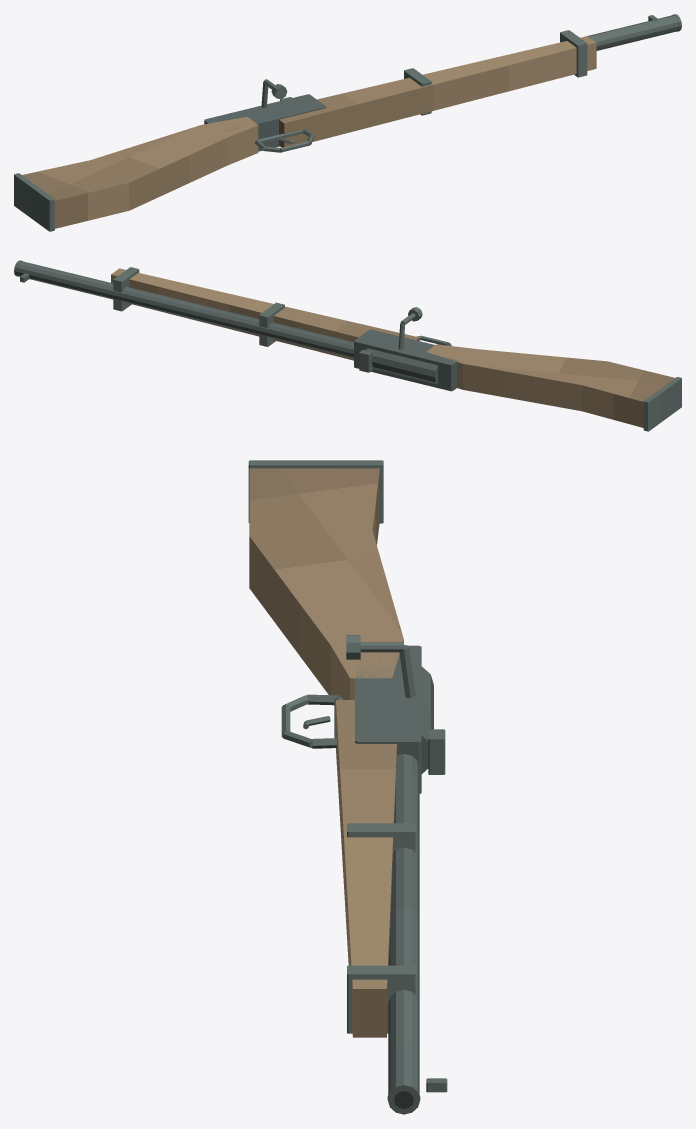
File: weapon-springfield-1903.glb
3 renders of one model, top to bottom at view 1: azimuth 30°, elevation 25°; view 2: azimuth 150°, elevation 25°; view 3: azimuth 270°, elevation 25°, orthographic. The views are drawn at different scales.
Visible parts, largest first — view 1: weapon-springfield-1903/shaped-solid-butt, weapon-springfield-1903/tapered-full-depth-forend, weapon-springfield-1903/central-receiver, weapon-springfield-1903/long-barrel, weapon-springfield-1903/butt-end-plate, weapon-springfield-1903/stock-band-1; view 2: weapon-springfield-1903/shaped-solid-butt, weapon-springfield-1903/long-barrel, weapon-springfield-1903/tapered-full-depth-forend, weapon-springfield-1903/central-receiver, weapon-springfield-1903/receiver-top-cylinder, weapon-springfield-1903/butt-end-plate, weapon-springfield-1903/stock-band-1, weapon-springfield-1903/stock-band-0, weapon-springfield-1903/rear-sight; view 3: weapon-springfield-1903/shaped-solid-butt, weapon-springfield-1903/tapered-full-depth-forend, weapon-springfield-1903/long-barrel, weapon-springfield-1903/central-receiver, weapon-springfield-1903/stock-band-1, weapon-springfield-1903/butt-end-plate, weapon-springfield-1903/stock-band-0, weapon-springfield-1903/receiver-top-cylinder.
Boxes of the visible parts, x1,y1,x2,y2 form: weapon-springfield-1903/shaped-solid-butt: (22, 117, 258, 228); weapon-springfield-1903/tapered-full-depth-forend: (279, 36, 596, 147); weapon-springfield-1903/central-receiver: (204, 94, 326, 151); weapon-springfield-1903/long-barrel: (588, 15, 678, 50); weapon-springfield-1903/butt-end-plate: (14, 173, 54, 231); weapon-springfield-1903/stock-band-1: (560, 30, 587, 77); weapon-springfield-1903/shaped-solid-butt: (426, 344, 674, 427); weapon-springfield-1903/long-barrel: (17, 261, 354, 358); weapon-springfield-1903/tapered-full-depth-forend: (111, 268, 419, 360); weapon-springfield-1903/central-receiver: (354, 329, 457, 391); weapon-springfield-1903/receiver-top-cylinder: (366, 348, 437, 384); weapon-springfield-1903/butt-end-plate: (643, 377, 681, 431); weapon-springfield-1903/stock-band-1: (113, 267, 139, 311); weapon-springfield-1903/stock-band-0: (259, 302, 284, 346); weapon-springfield-1903/rear-sight: (359, 349, 372, 372); weapon-springfield-1903/shaped-solid-butt: (249, 468, 403, 699); weapon-springfield-1903/tapered-full-depth-forend: (336, 700, 396, 1037); weapon-springfield-1903/long-barrel: (388, 754, 419, 1093); weapon-springfield-1903/central-receiver: (355, 645, 421, 793); weapon-springfield-1903/stock-band-1: (347, 965, 416, 1033); weapon-springfield-1903/butt-end-plate: (248, 460, 383, 523); weapon-springfield-1903/stock-band-0: (347, 823, 416, 852); weapon-springfield-1903/receiver-top-cylinder: (421, 666, 433, 773).
Size of the model in its own units: 1.1 by 0.1 by 0.1515.
Materials: 3 (3 with a texture image).
